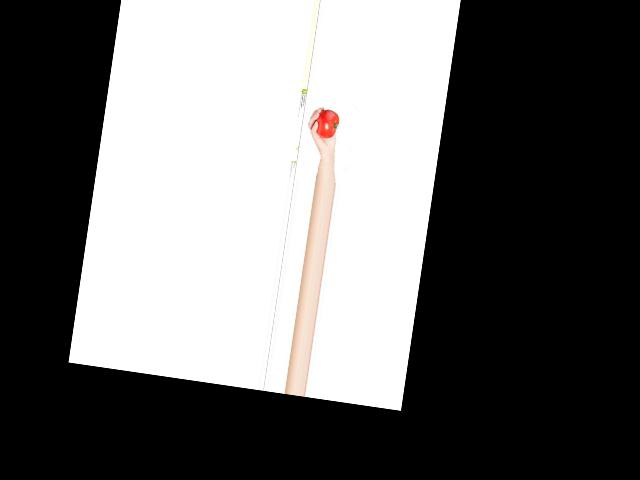tomato: (312, 108, 340, 140)
